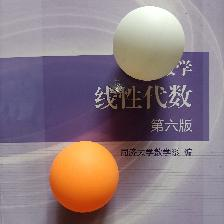WhiteBall: (112, 5, 185, 81)
YellowBall: (49, 140, 119, 212)
